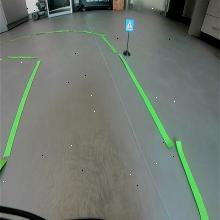crosswalk: (125, 18, 135, 32)
